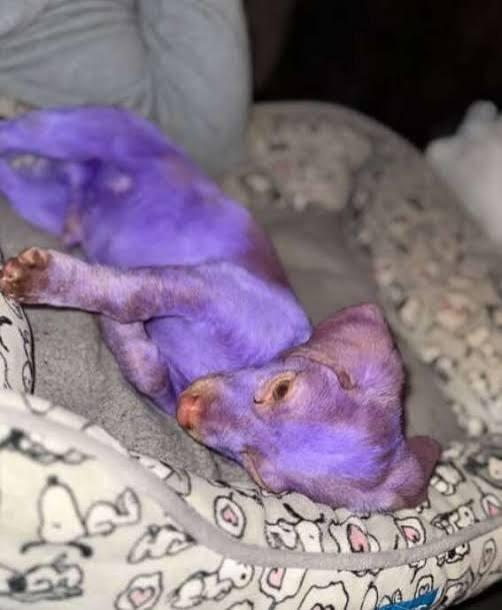puppy-dog: (1, 104, 447, 516)
